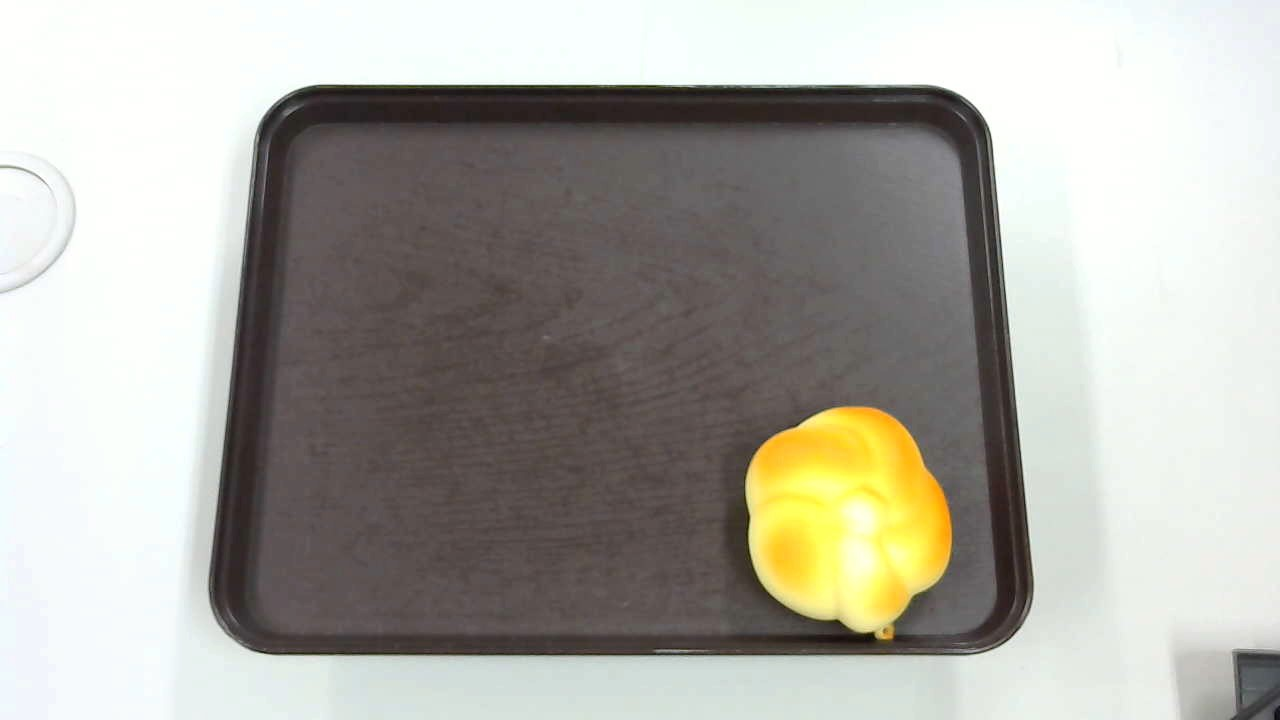twist bread: (746, 406, 952, 644)
